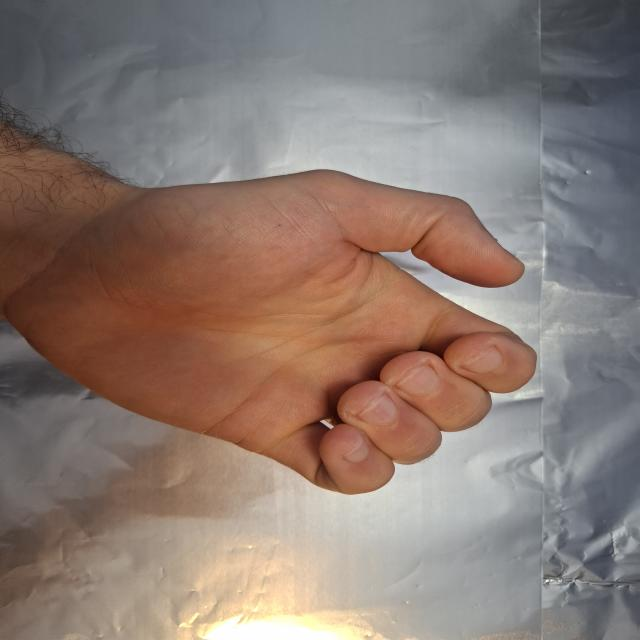glove_off: (11, 128, 543, 496)
